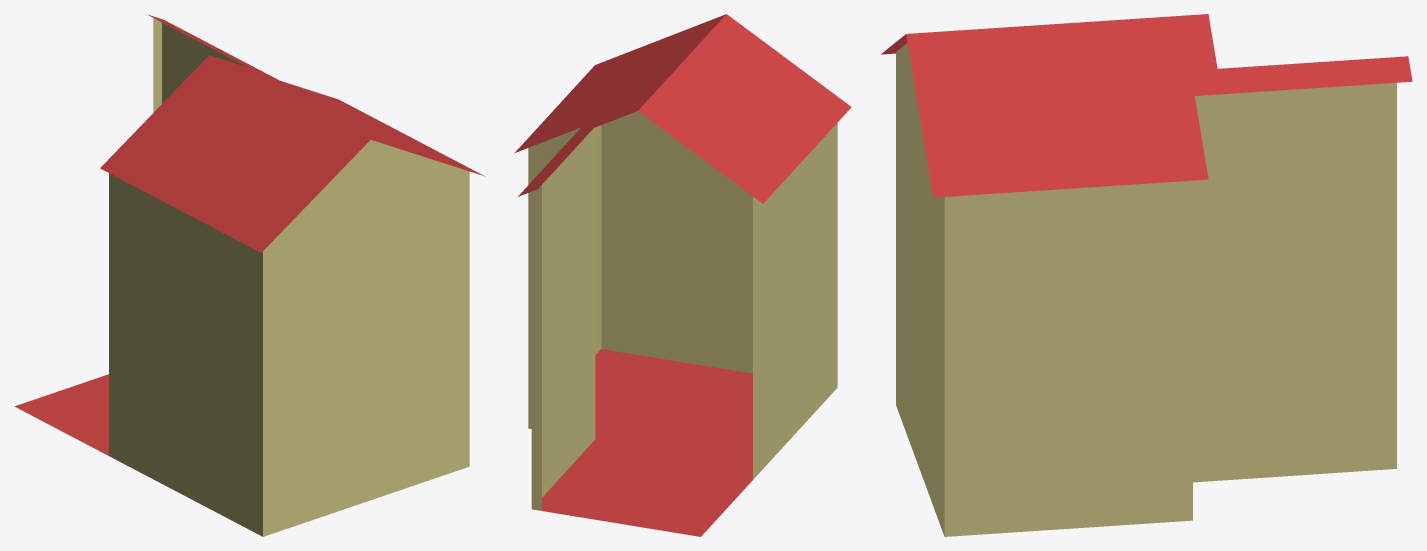
3 views of the same model, side by side, from view 1: azimuth 30°, elevation 25°; view 2: azimuth 150°, elevation 25°; view 3: azimuth 270°, elevation 25° (orthographic). The views are drawn at different scales.
Size of the model in its own units: 7.31 by 9.73 by 8.8.
